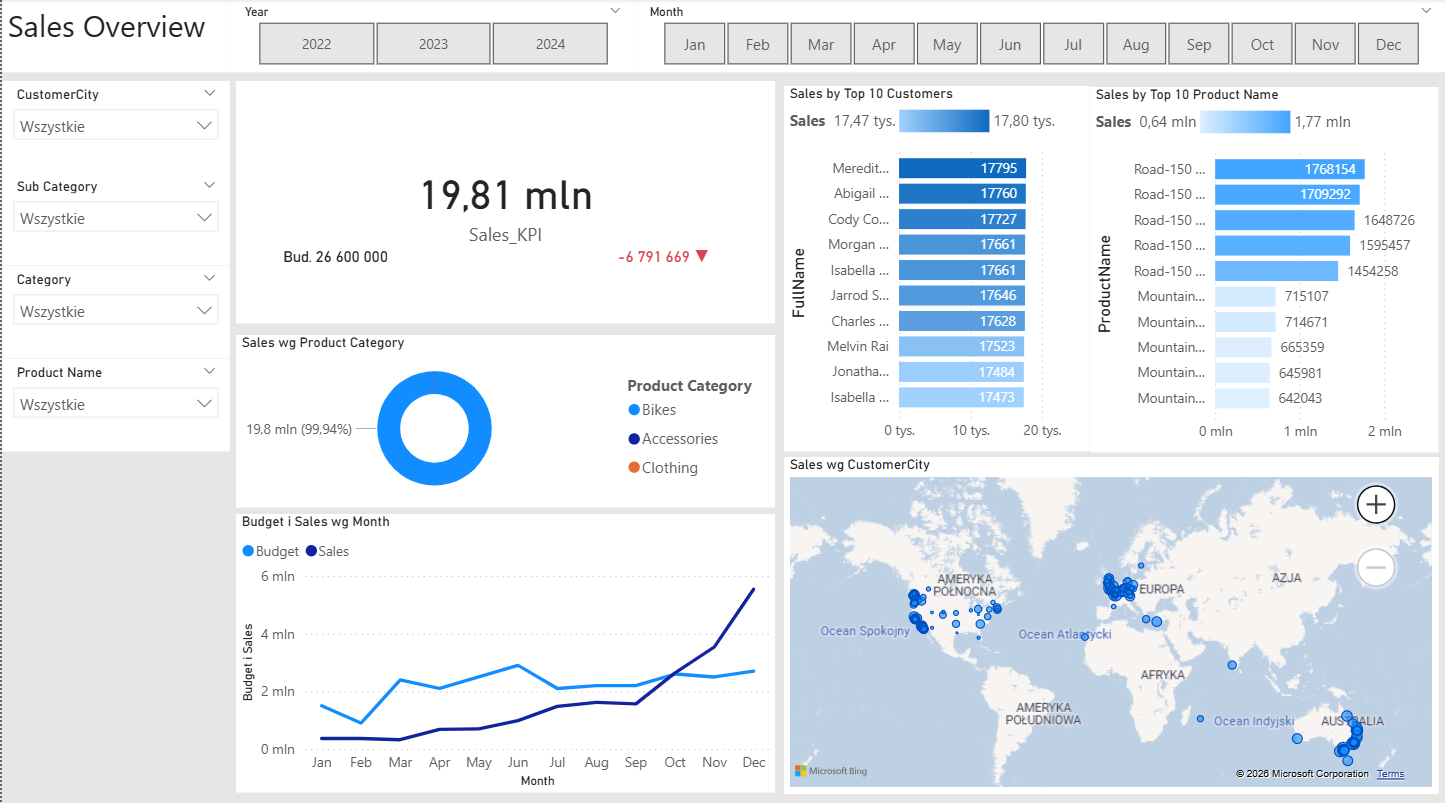

The dashboard page shown, as its layout file describes it:
{"tool":"powerbi","page":{"name":"Sales Overview","canvas":[1280,720],"ordinal":0},"visuals":[{"type":"textbox","box":[0,0,202.2,64.7],"z":0},{"type":"slicer","fields":{"Values":["DIM_Customer.CustomerCity"]},"box":[0,72.9,202.3,81.7],"z":1000},{"type":"slicer","fields":{"Values":["DIM_Products.SubcategoryName"]},"box":[0,154.3,202.2,82.5],"z":2000},{"type":"slicer","fields":{"Values":["DIM_Products.CategoryName"]},"box":[0,236.7,202.2,81.6],"z":3000},{"type":"slicer","fields":{"Values":["DIM_Products.ProductName"]},"box":[0,319.2,202.2,81.6],"z":4000},{"type":"slicer","fields":{"Values":["DIM_Calendar.Year"]},"box":[202.2,0,359.1,64.7],"z":5000},{"type":"slicer","fields":{"Values":["DIM_Calendar.MonthShort"]},"box":[561.3,0,719.1,64.7],"z":6000},{"type":"donutChart","fields":{"Category":["DIM_Products.CategoryName"],"Y":["FACT_InternetSales.Sales"]},"box":[207.5,297.9,477.9,152.5],"z":7000},{"type":"lineChart","fields":{"Y":["FACT_Budget.BudgetAmount","FACT_InternetSales.Sales"],"Category":["DIM_Calendar.MonthShort"]},"box":[207.5,456.7,477.9,247.4],"z":8000},{"type":"barChart","title":"Sales by Top 10 Customers","fields":{"Y":["FACT_InternetSales.Sales"],"Category":["DIM_Customer.FullName"]},"box":[693.4,77.1,271.3,323.6],"z":9000},{"type":"barChart","title":"Sales by Top 10 Product Name","fields":{"Y":["FACT_InternetSales.Sales"],"Category":["DIM_Products.ProductName"]},"box":[964.7,78,308.6,323.6],"z":10000},{"type":"map","fields":{"Category":["DIM_Customer.CustomerCity"],"Size":["FACT_InternetSales.Sales"]},"box":[693.3,406.3,580.3,297.9],"z":11000},{"type":"card","fields":{"Values":["FACT_InternetSales.Sales_KPI"]},"box":[207.5,72.7,477.9,215.5],"z":12000},{"type":"card","fields":{"Values":["FACT_InternetSales.Budget_Label"]},"box":[207.5,206.6,176.5,46.1],"z":13000},{"type":"card","fields":{"Values":["FACT_InternetSales.Variance_Label"]},"box":[500.1,206.6,172.9,46.1],"z":14000}]}

Visuals, with their boxes in screenshot pixels (x1, y1, x2, y2), scaled from the page's 1280x720 canvas onto the 1445x803 screenshot:
textbox: bbox=[0, 0, 228, 72]
slicer - DIM_Customer.CustomerCity: bbox=[0, 81, 228, 172]
slicer - DIM_Products.SubcategoryName: bbox=[0, 172, 228, 264]
slicer - DIM_Products.CategoryName: bbox=[0, 264, 228, 355]
slicer - DIM_Products.ProductName: bbox=[0, 356, 228, 447]
slicer - DIM_Calendar.Year: bbox=[228, 0, 634, 72]
slicer - DIM_Calendar.MonthShort: bbox=[634, 0, 1444, 72]
donutChart - DIM_Products.CategoryName x FACT_InternetSales.Sales: bbox=[234, 332, 774, 502]
lineChart - FACT_Budget.BudgetAmount x FACT_InternetSales.Sales: bbox=[234, 509, 774, 785]
"Sales by Top 10 Customers" barChart: bbox=[783, 86, 1089, 447]
"Sales by Top 10 Product Name" barChart: bbox=[1089, 87, 1437, 448]
map - DIM_Customer.CustomerCity x FACT_InternetSales.Sales: bbox=[783, 453, 1438, 785]
card - FACT_InternetSales.Sales_KPI: bbox=[234, 81, 774, 321]
card - FACT_InternetSales.Budget_Label: bbox=[234, 230, 434, 282]
card - FACT_InternetSales.Variance_Label: bbox=[565, 230, 760, 282]
